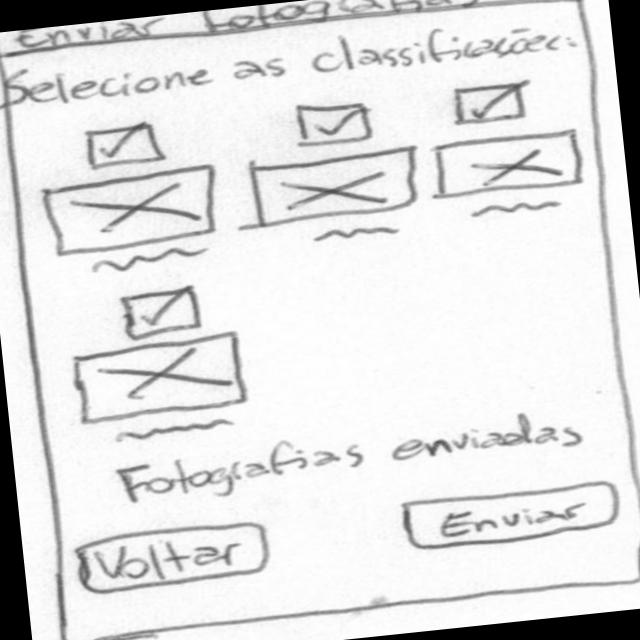button: (396, 476, 624, 554), (67, 514, 276, 598)
checkbox: (114, 280, 210, 342), (284, 92, 384, 150), (79, 118, 170, 172), (448, 74, 538, 128)
container: (0, 0, 640, 640), (0, 0, 592, 65)
image: (72, 329, 254, 424), (40, 164, 223, 256), (244, 142, 424, 230), (431, 124, 586, 202)
label: (8, 12, 582, 112), (111, 406, 594, 504), (13, 0, 485, 55)
text: (89, 240, 215, 274), (110, 414, 240, 446), (309, 218, 405, 248), (469, 194, 568, 222)
